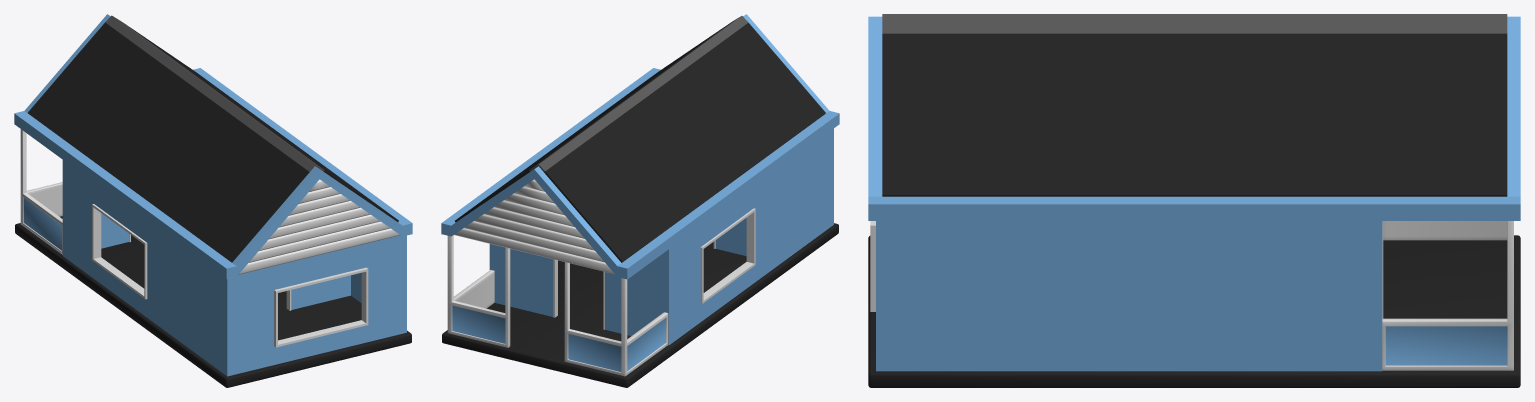
File: SummerHut.fbx
3 renders of one model, left to right at view 1: azimuth 30°, elevation 25°; view 2: azimuth 150°, elevation 25°; view 3: azimuth 270°, elevation 25°, orthographic. The views are drawn at different scales.
Parts seen in each view (by area): view 1: Cube.013, Cube.002, Cube.003, Cube, Cube.001, Cube.018, Cube.004, Cube.016, Cube.005, Cube.006, Cube.007, Cube.008 (+1 smaller); view 2: Cube.013, Cube.002, Cube, Cube.003, Cube.001, Cube.004, Cube.016, Cube.005, Cube.006, Cube.007, Cube.008, Cube.009 (+1 smaller); view 3: Cube.013, Cube.002, Cube, Cube.003, Cube.001.
Part boxes in pixels (x1,y1,x2,y2): Cube.013: (28, 15, 398, 262); Cube.002: (62, 160, 406, 376); Cube.003: (14, 14, 412, 279); Cube: (15, 216, 411, 387); Cube.001: (20, 129, 62, 254); Cube.018: (274, 267, 368, 347); Cube.004: (239, 228, 400, 274); Cube.016: (92, 204, 147, 299); Cube.005: (249, 221, 390, 262); Cube.006: (259, 214, 380, 250); Cube.007: (269, 207, 370, 239); Cube.008: (279, 200, 360, 227); Cube.013: (455, 16, 825, 262); Cube.002: (489, 128, 833, 345); Cube: (442, 223, 838, 387); Cube.003: (441, 14, 839, 279); Cube.001: (447, 235, 668, 376); Cube.004: (454, 228, 614, 274); Cube.016: (700, 208, 755, 303); Cube.005: (464, 221, 604, 262); Cube.006: (474, 214, 594, 250); Cube.007: (484, 207, 584, 238); Cube.008: (494, 200, 574, 226); Cube.009: (504, 193, 564, 215); Cube.013: (882, 14, 1507, 196); Cube.002: (876, 221, 1382, 371); Cube: (868, 235, 1520, 387); Cube.003: (868, 16, 1520, 220); Cube.001: (1382, 221, 1513, 370).
Bounding box in the file's own units: 1195 × 1219 × 2359.
